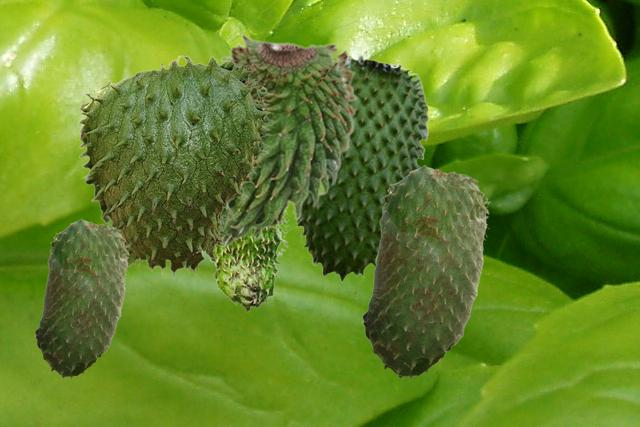guyabano: (78, 54, 274, 278), (295, 53, 428, 281), (220, 31, 357, 246), (361, 164, 489, 379), (34, 218, 129, 378), (203, 208, 289, 311)
